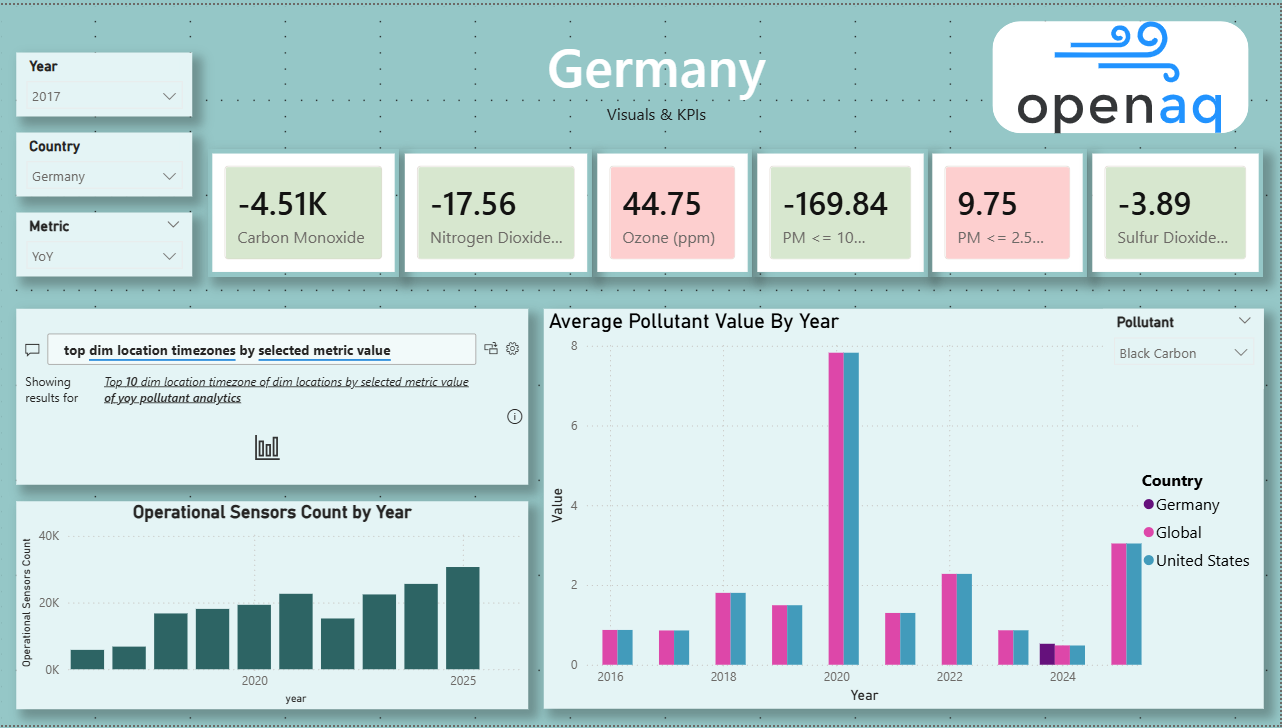

The page's visual inventory and layout, read from the dashboard file:
{"tool":"powerbi","page":{"name":"Country Info","canvas":[1280,720],"ordinal":1},"visuals":[{"type":"slicer","fields":{"Values":["yoy_pollutant_analytics.year"]},"box":[16,48,176,64],"z":0},{"type":"cardVisual","title":"Dashboard","fields":{"Data":["Min(yoy_pollutant_analytics.country_name)"]},"box":[352,0,608,144],"z":1000},{"type":"qnaVisual","box":[16,304,512,176],"z":2000},{"type":"slicer","fields":{"Values":["yoy_pollutant_analytics.country_name"]},"box":[16,128,176,64],"z":3000},{"type":"clusteredColumnChart","title":"Operational Sensors Count by Year","fields":{"Category":["sensor_count_yearly.year"],"Y":["Sum(sensor_count_yearly.OperationalSensorCount)"]},"box":[16,496,512,208],"z":4000},{"type":"cardVisual","fields":{"Data":["yoy_pollutant_analytics.SelectedMetricValue"]},"box":[208,144,192,128],"z":5000},{"type":"cardVisual","fields":{"Data":["yoy_pollutant_analytics.SelectedMetricValue"]},"box":[400,144,192,128],"z":6000},{"type":"cardVisual","fields":{"Data":["yoy_pollutant_analytics.SelectedMetricValue"]},"box":[592,144,160,128],"z":7000},{"type":"cardVisual","fields":{"Data":["yoy_pollutant_analytics.SelectedMetricValue"]},"box":[752,144,176,128],"z":8000},{"type":"cardVisual","fields":{"Data":["yoy_pollutant_analytics.SelectedMetricValue"]},"box":[928,144,160,128],"z":9000},{"type":"cardVisual","fields":{"Data":["yoy_pollutant_analytics.SelectedMetricValue"]},"box":[1088,144,176,128],"z":10000},{"type":"slicer","fields":{"Values":["Metrics.Metric"]},"box":[16,208,176,64],"z":11000},{"type":"shape","box":[992,16,256,112],"z":12000},{"type":"image","box":[1008,16,224,112],"z":13000},{"type":"clusteredColumnChart","title":"Average Pollutant Value By Year","fields":{"Category":["global_and_country_pollutant_avg_yearly 2.year"],"Y":["Avg(global_and_country_pollutant_avg_yearly 2.avg_value)"],"Series":["global_and_country_pollutant_avg_yearly 2.country_name"]},"box":[544,304,720,400],"z":14000},{"type":"slicer","fields":{"Values":["global_and_country_pollutant_avg_yearly 2.pollutant_name"]},"box":[1104,304,160,80],"z":16501}]}

Visuals, with their boxes in screenshot pixels (x1, y1, x2, y2), scaled from the page's 1280x720 canvas onto the 1282x728 screenshot:
slicer - yoy_pollutant_analytics.year: region(16, 49, 192, 113)
"Dashboard" cardVisual: region(353, 0, 961, 146)
qnaVisual: region(16, 307, 529, 485)
slicer - yoy_pollutant_analytics.country_name: region(16, 129, 192, 194)
"Operational Sensors Count by Year" clusteredColumnChart: region(16, 502, 529, 712)
cardVisual - yoy_pollutant_analytics.SelectedMetricValue: region(208, 146, 401, 275)
cardVisual - yoy_pollutant_analytics.SelectedMetricValue: region(401, 146, 593, 275)
cardVisual - yoy_pollutant_analytics.SelectedMetricValue: region(593, 146, 753, 275)
cardVisual - yoy_pollutant_analytics.SelectedMetricValue: region(753, 146, 929, 275)
cardVisual - yoy_pollutant_analytics.SelectedMetricValue: region(929, 146, 1090, 275)
cardVisual - yoy_pollutant_analytics.SelectedMetricValue: region(1090, 146, 1266, 275)
slicer - Metrics.Metric: region(16, 210, 192, 275)
shape: region(994, 16, 1250, 129)
image: region(1010, 16, 1234, 129)
"Average Pollutant Value By Year" clusteredColumnChart: region(545, 307, 1266, 712)
slicer - global_and_country_pollutant_avg_yearly 2.pollutant_name: region(1106, 307, 1266, 388)
